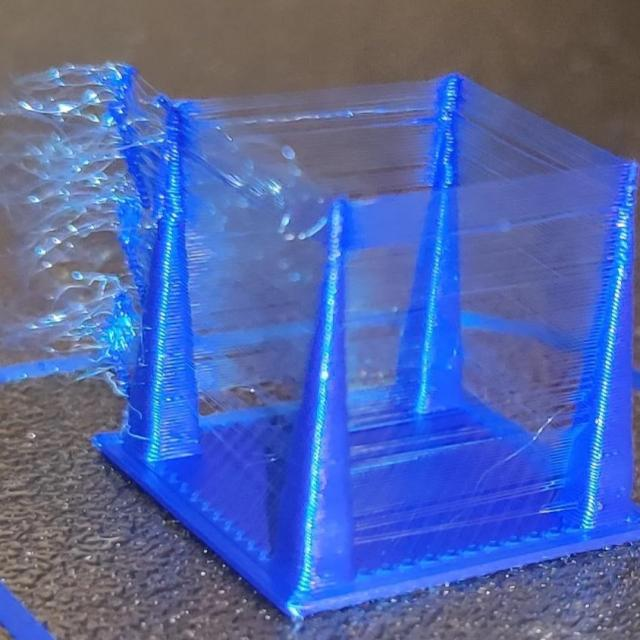Stringing: (354, 169, 596, 372), (32, 76, 129, 384), (184, 144, 322, 326)
